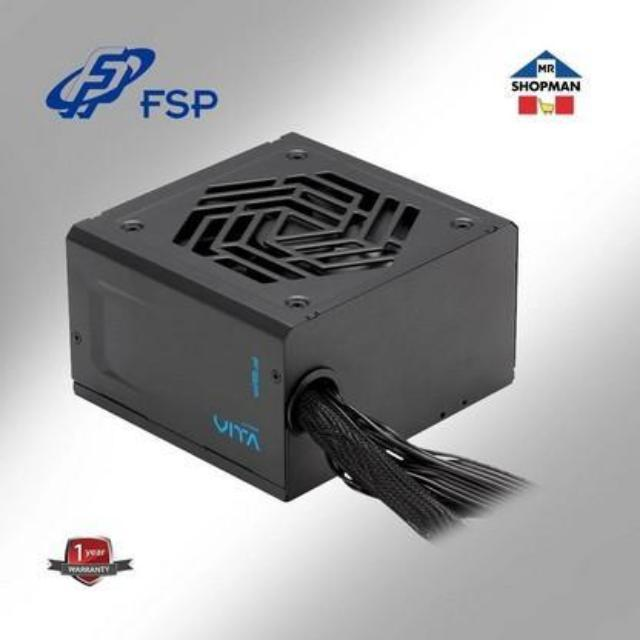PSU: (64, 128, 526, 486)
